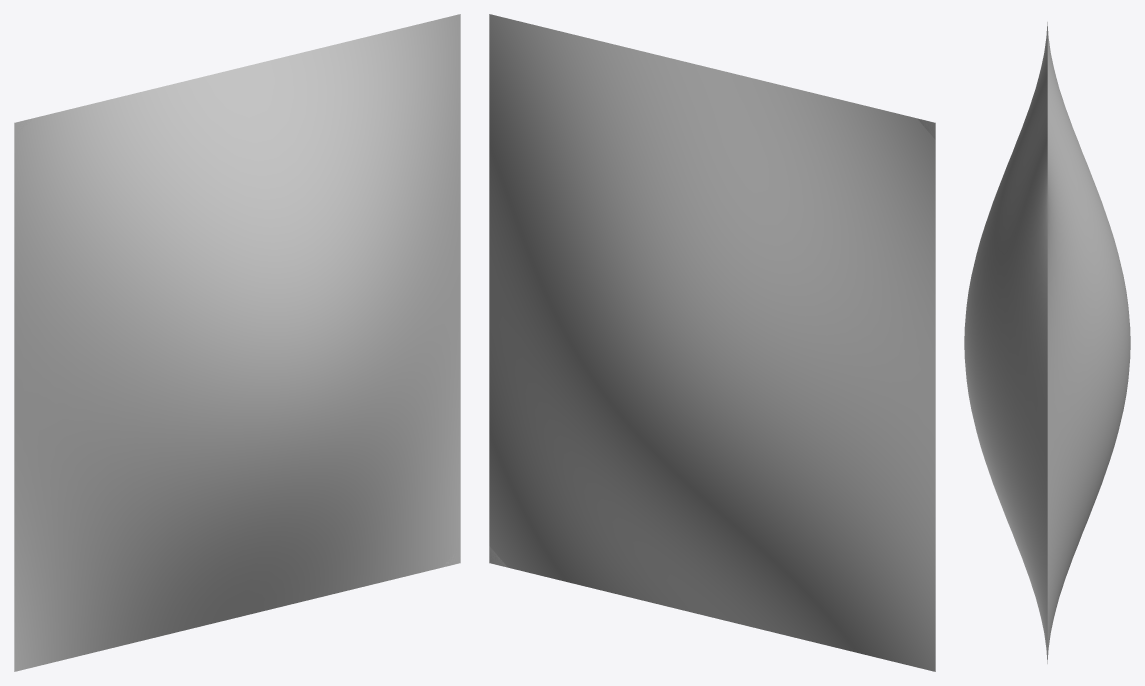
Rendered from tshirt_panel.glb.
The picture shows the model from 3 angles, left to right: view 1: azimuth 30°, elevation 25°; view 2: azimuth 150°, elevation 25°; view 3: azimuth 270°, elevation 25°; orthographic projection. The views are drawn at different scales.
Visible parts, largest first — view 1: Garment; view 2: Garment; view 3: Garment.
Part boxes in pixels (x1,y1,x2,y2): Garment: [14, 14, 460, 671]; Garment: [489, 14, 935, 671]; Garment: [964, 22, 1130, 663].
Bounding box in the file's own units: 0.85 × 1 × 0.32.
1 material, 1 textured.
